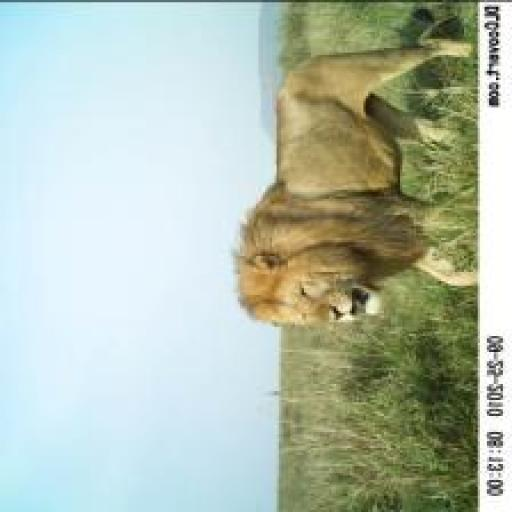lion: (206, 18, 476, 338)
